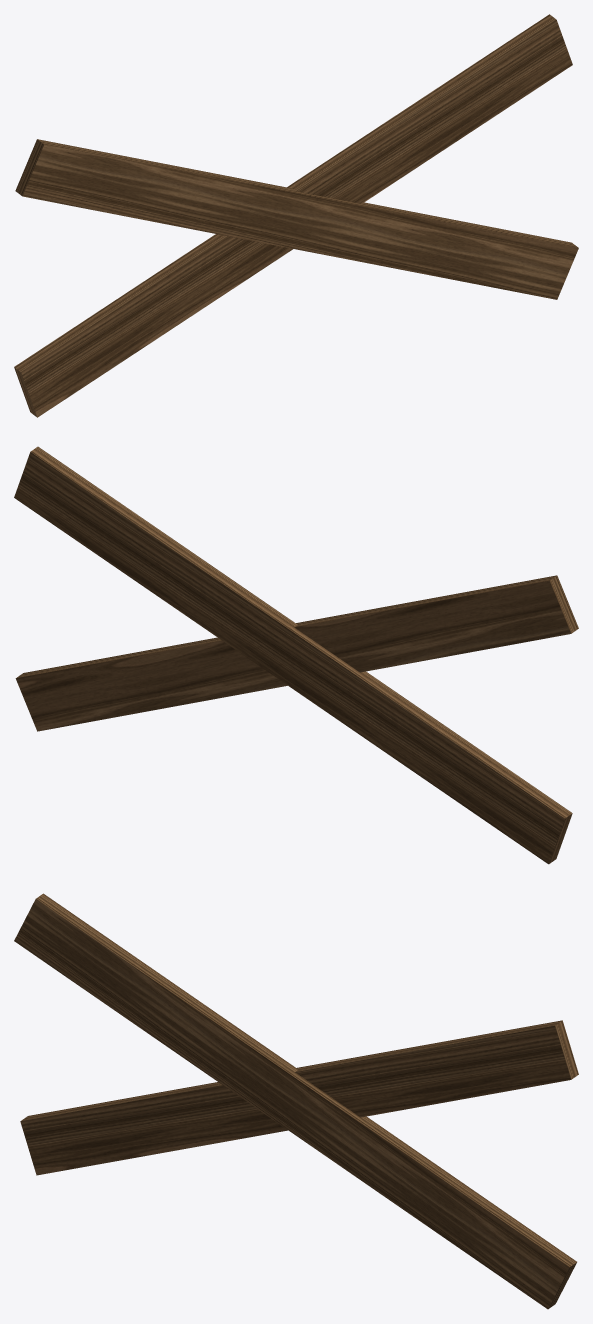
The model's file is Wooden4.obj.
3 renders of one model, top to bottom at view 1: azimuth 30°, elevation 25°; view 2: azimuth 150°, elevation 25°; view 3: azimuth 330°, elevation 25°, orthographic.
Parts seen in each view (by area): view 1: Wooden_25.001_Cube.048; view 2: Wooden_25.001_Cube.048; view 3: Wooden_25.001_Cube.048.
Boxes of the visible parts, x1,y1,x2,y2 form: Wooden_25.001_Cube.048: (14, 14, 578, 417); Wooden_25.001_Cube.048: (14, 446, 578, 864); Wooden_25.001_Cube.048: (14, 893, 578, 1309).
Bounding box in the file's own units: 10.94 × 5.25 × 0.5643.
